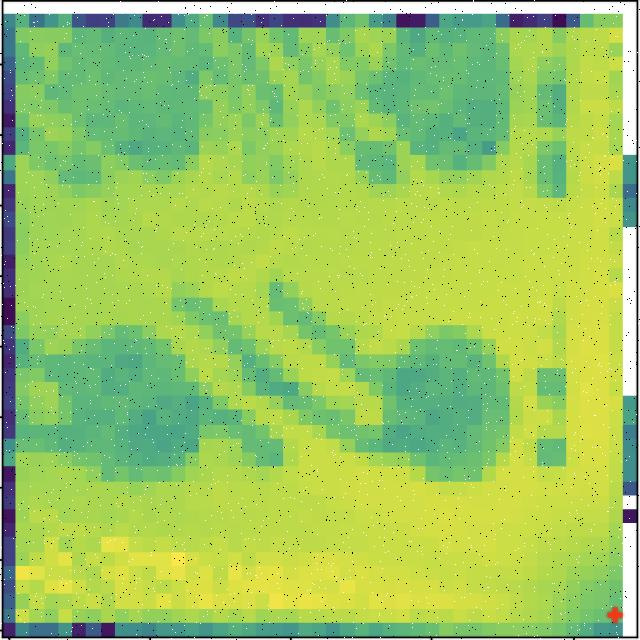Concrete: (68, 324, 211, 488)
Glass: (362, 322, 526, 489)
Metal: (64, 30, 214, 192)
Wood: (368, 32, 520, 192)
